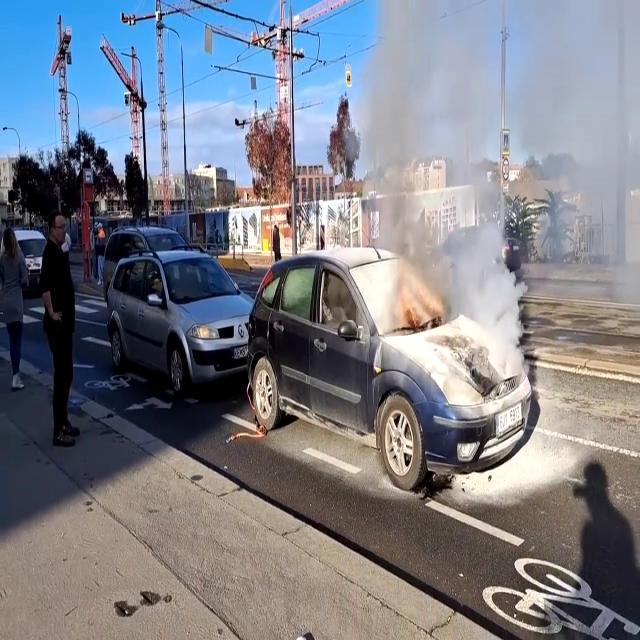Smoke: (322, 0, 640, 366)
